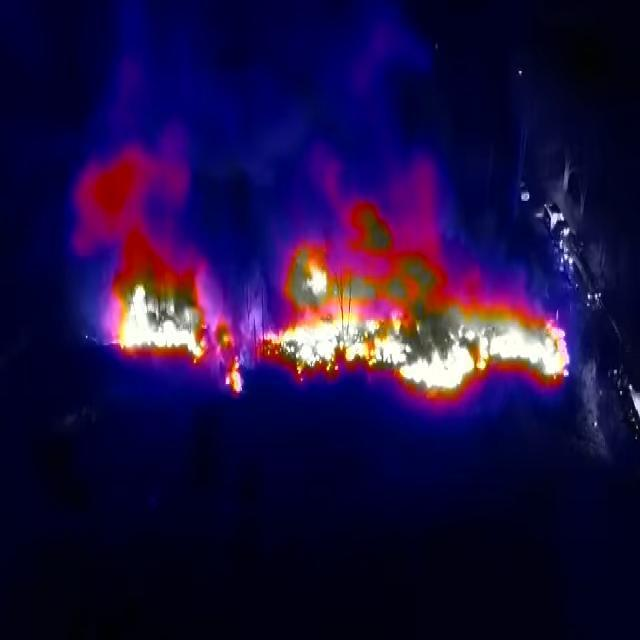fire: (252, 238, 572, 406), (109, 252, 247, 399)
